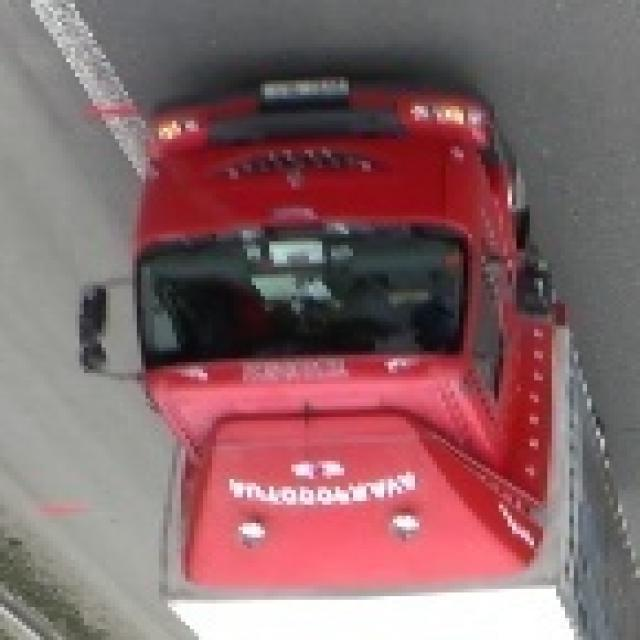truck: (88, 69, 640, 640)
